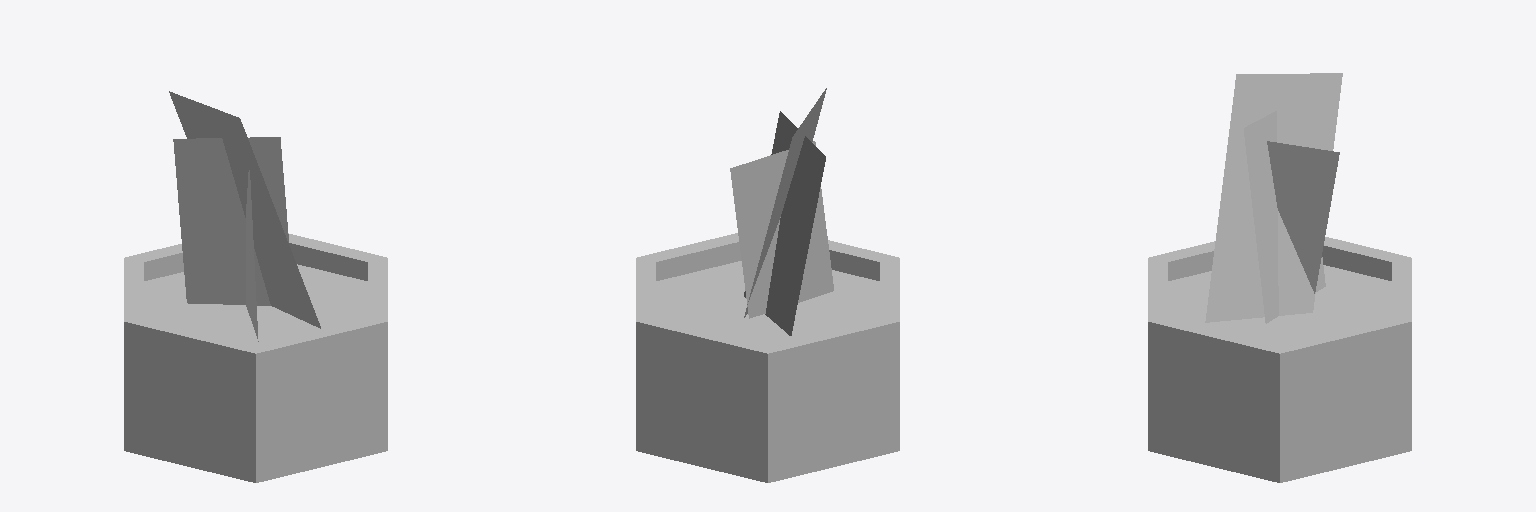
Rendered from Blumenkuebel_noeMat.obj.
3 views of the same model, side by side, from view 1: azimuth 30°, elevation 25°; view 2: azimuth 150°, elevation 25°; view 3: azimuth 270°, elevation 25° (orthographic).
Parts seen in each view (by area): view 1: Blumenkuebel; view 2: Blumenkuebel; view 3: Blumenkuebel.
Boxes of the visible parts, <box> form: Blumenkuebel: <box>124,91,387,482</box>; Blumenkuebel: <box>636,88,899,482</box>; Blumenkuebel: <box>1148,73,1411,482</box>.
Size of the model in its own units: 134 by 159 by 116.